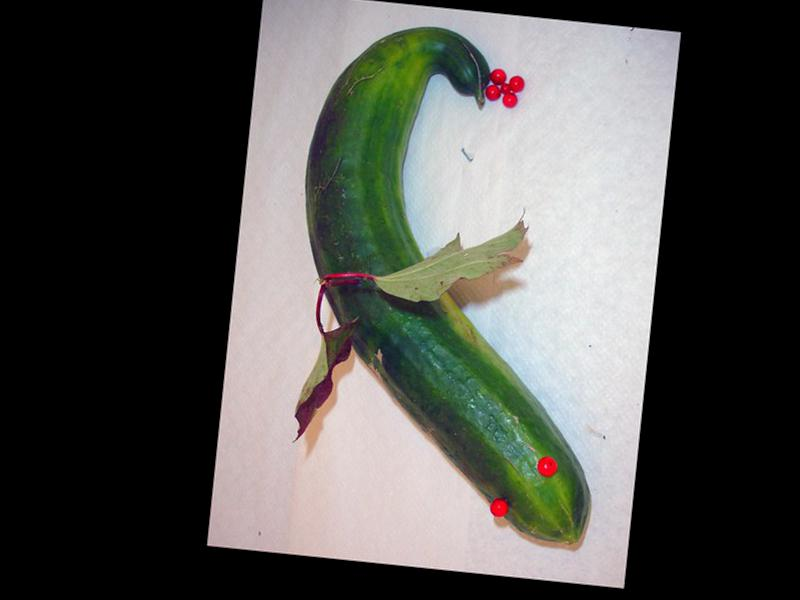Cucumber: (271, 16, 636, 546)
